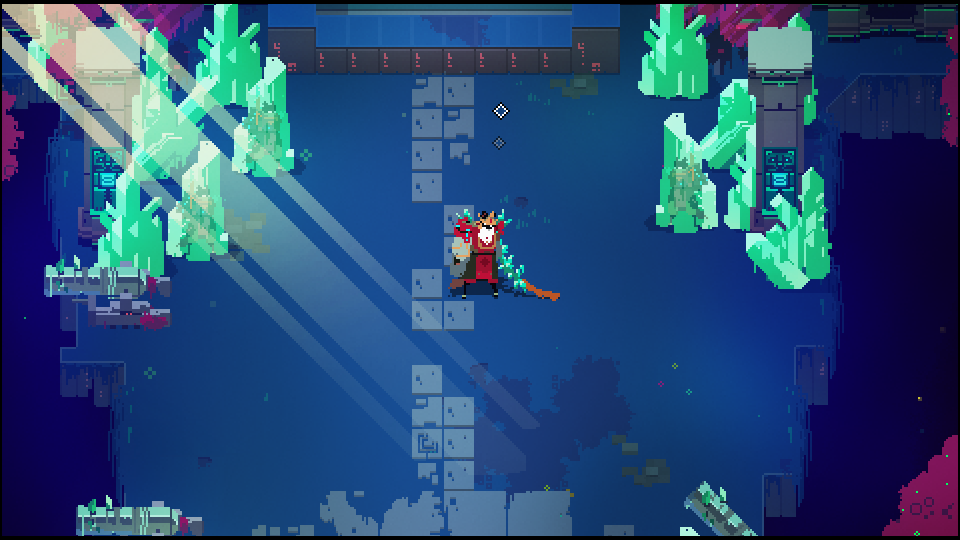hanged_man: (444, 205, 533, 303)
